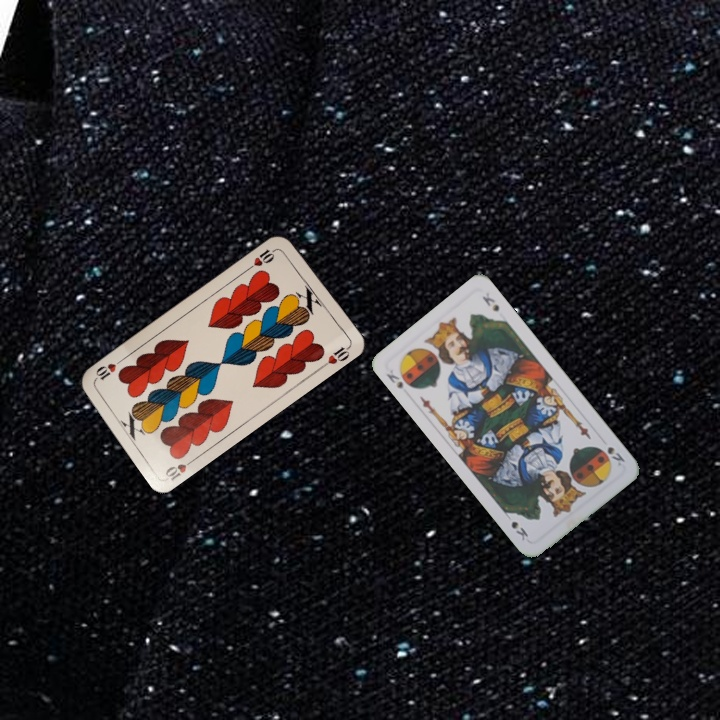H10: (161, 454, 199, 484), (244, 244, 281, 272)
SK: (603, 442, 628, 469), (382, 365, 406, 391)
